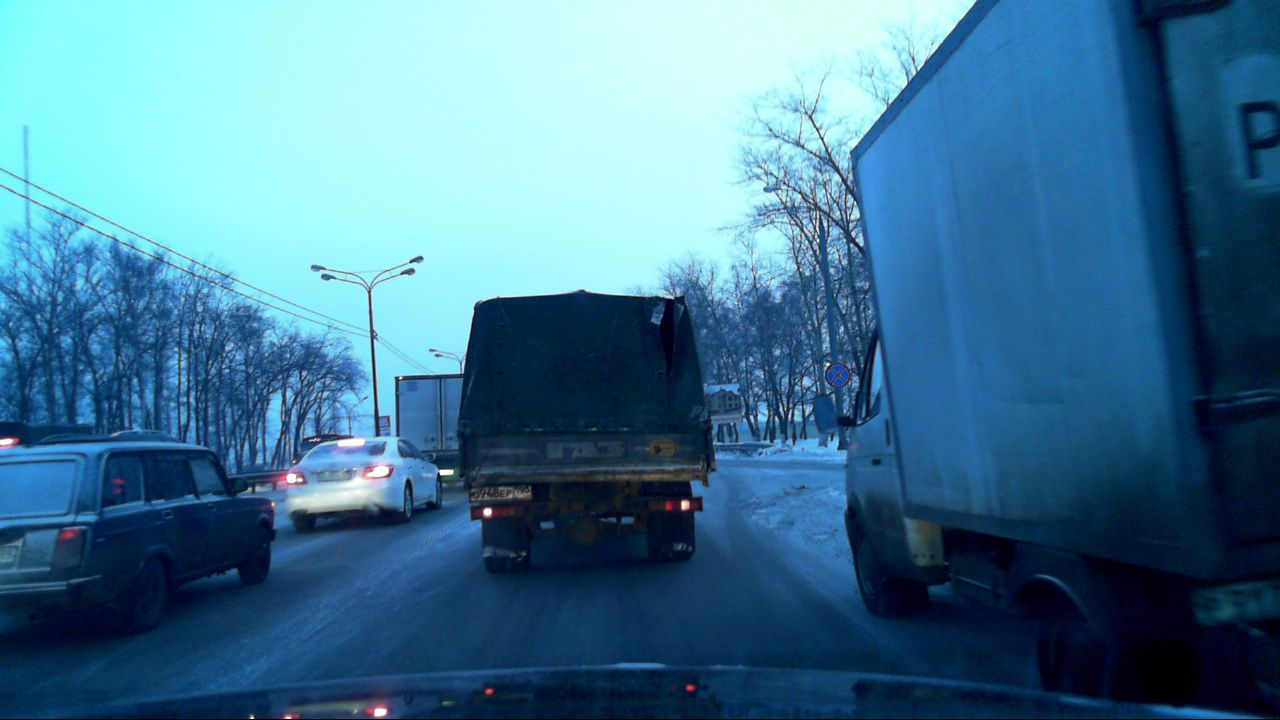No Parking: (825, 363, 850, 388)
